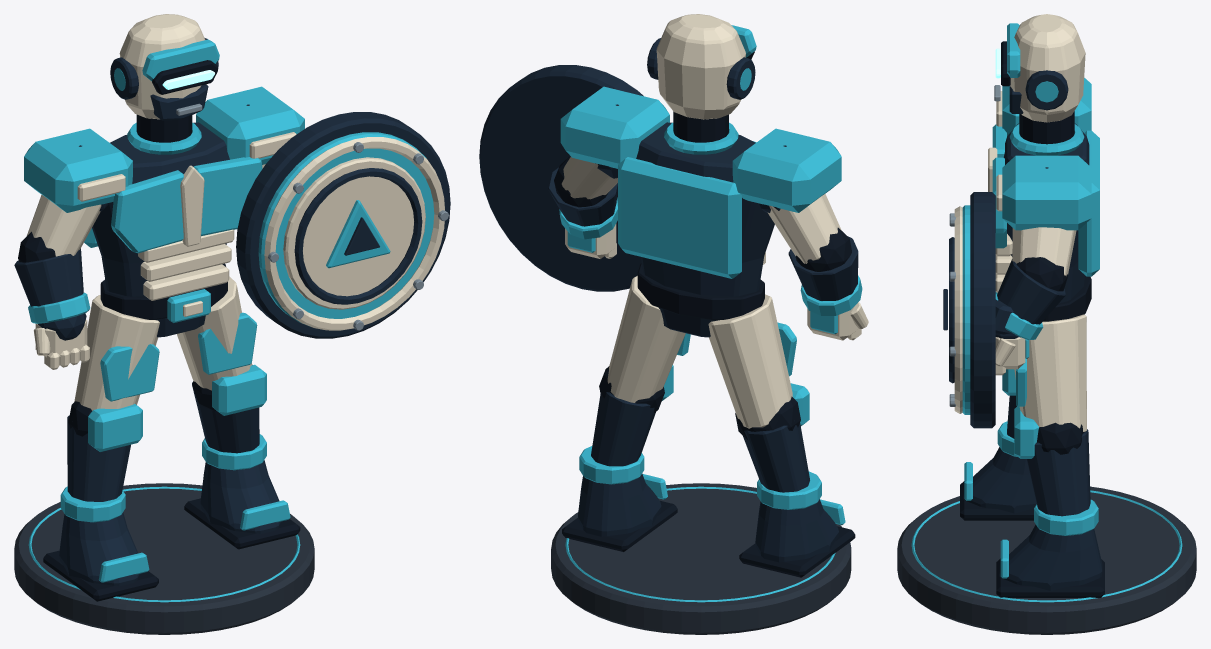
File: bastion.glb
3 views of the same model, side by side, from view 1: azimuth 30°, elevation 25°; view 2: azimuth 150°, elevation 25°; view 3: azimuth 270°, elevation 25° (orthographic).
Parts seen in each view (by area): view 1: bastion_plinth, bastion_shield_inner_field, bastion_shield_body, bastion_shield_outer_structural_ring, bastion_shield_face, bastion_right_shoulder_pad, bastion_armored_torso_core, bastion_chest_right, bastion_left_shoulder_pad, bastion_right_leg_thigh, bastion_left_leg_boot, bastion_right_leg_boot (+40 smaller); view 2: bastion_plinth, bastion_shield_body, bastion_back_armor, bastion_closed_helmet, bastion_armored_torso_core, bastion_right_leg_thigh, bastion_right_shoulder_pad, bastion_left_shoulder_pad, bastion_left_leg_thigh, bastion_right_leg_boot, bastion_left_leg_boot, bastion_left_leg_shin (+24 smaller); view 3: bastion_plinth, bastion_left_shoulder_pad, bastion_left_leg_thigh, bastion_shield_body, bastion_closed_helmet, bastion_left_leg_boot, bastion_left_leg_shin, bastion_right_leg_boot, bastion_left_arm_forearm, bastion_left_arm_upper_arm, bastion_back_armor, bastion_shield_face (+21 smaller).
Boxes of the visible parts, x1=… form: bastion_plinth: x1=14, y1=483, x2=314, y2=634; bastion_shield_inner_field: x1=283, y1=157, x2=425, y2=309; bastion_shield_body: x1=236, y1=112, x2=450, y2=338; bastion_shield_outer_structural_ring: x1=264, y1=137, x2=444, y2=330; bastion_shield_face: x1=258, y1=132, x2=434, y2=326; bastion_right_shoulder_pad: x1=24, y1=128, x2=132, y2=212; bastion_armored_torso_core: x1=92, y1=122, x2=229, y2=296; bastion_chest_right: x1=111, y1=170, x2=183, y2=253; bastion_left_shoulder_pad: x1=196, y1=86, x2=304, y2=164; bastion_right_leg_thigh: x1=74, y1=295, x2=159, y2=410; bastion_left_leg_boot: x1=200, y1=460, x2=281, y2=533; bastion_right_leg_boot: x1=59, y1=512, x2=140, y2=586; bastion_plinth: x1=551, y1=483, x2=851, y2=634; bastion_shield_body: x1=479, y1=65, x2=643, y2=291; bastion_back_armor: x1=618, y1=157, x2=741, y2=278; bastion_closed_helmet: x1=656, y1=14, x2=745, y2=119; bastion_armored_torso_core: x1=636, y1=122, x2=774, y2=296; bastion_right_leg_thigh: x1=708, y1=294, x2=792, y2=428; bastion_right_shoulder_pad: x1=732, y1=128, x2=841, y2=212; bastion_left_shoulder_pad: x1=560, y1=86, x2=669, y2=168; bastion_left_leg_thigh: x1=607, y1=275, x2=685, y2=402; bastion_right_leg_boot: x1=755, y1=499, x2=838, y2=562; bastion_left_leg_boot: x1=578, y1=473, x2=661, y2=536; bastion_left_leg_shin: x1=591, y1=392, x2=655, y2=466; bastion_plinth: x1=897, y1=486, x2=1196, y2=634; bastion_left_shoulder_pad: x1=1002, y1=155, x2=1091, y2=230; bastion_left_leg_thigh: x1=1014, y1=314, x2=1086, y2=431; bastion_shield_body: x1=970, y1=192, x2=995, y2=428; bastion_closed_helmet: x1=1010, y1=14, x2=1085, y2=122; bastion_left_leg_boot: x1=999, y1=524, x2=1102, y2=590; bastion_left_leg_shin: x1=1026, y1=429, x2=1090, y2=516; bastion_right_leg_boot: x1=963, y1=447, x2=1036, y2=513; bastion_left_arm_forearm: x1=997, y1=259, x2=1065, y2=337; bastion_left_arm_upper_arm: x1=1012, y1=227, x2=1076, y2=276; bastion_back_armor: x1=1078, y1=130, x2=1099, y2=276; bastion_shield_face: x1=962, y1=205, x2=970, y2=414.
Size of the model in its own units: 1.91 by 2.52 by 1.24.
